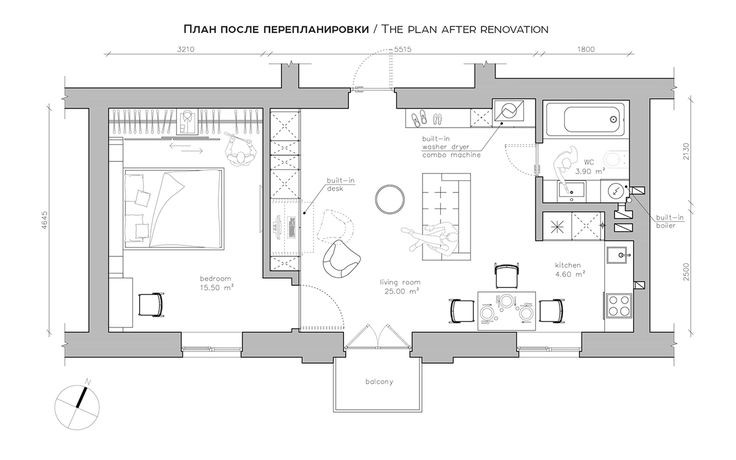door: (298, 281, 347, 330), (351, 45, 395, 94), (348, 321, 410, 353), (507, 138, 542, 176)
room: (269, 104, 540, 331), (84, 97, 272, 329), (538, 207, 644, 348), (540, 97, 638, 199)
wall: (66, 83, 351, 119), (82, 86, 119, 333), (627, 66, 655, 335), (497, 73, 675, 105), (237, 325, 349, 370), (415, 328, 524, 368), (66, 331, 188, 366), (576, 328, 674, 366), (395, 84, 495, 114), (259, 111, 272, 279), (534, 198, 620, 216), (532, 176, 545, 245), (262, 263, 303, 283), (531, 97, 546, 145), (603, 208, 616, 244), (613, 212, 632, 226)
window: (183, 345, 244, 354), (520, 346, 578, 354)
